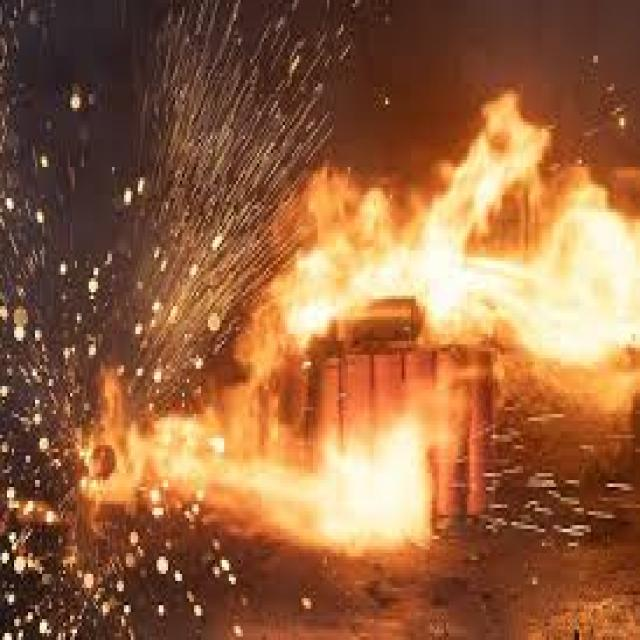explosion: (33, 133, 622, 630)
